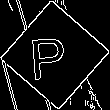P_N: (35, 28, 75, 82)
